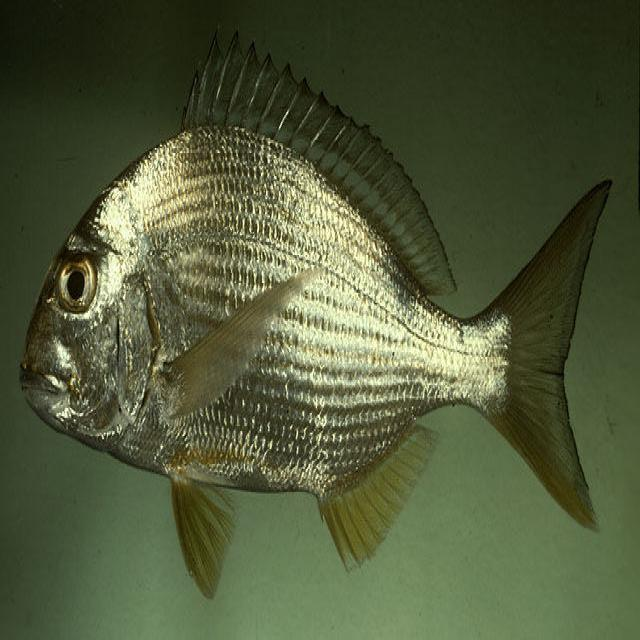ikan: (18, 24, 612, 600)
